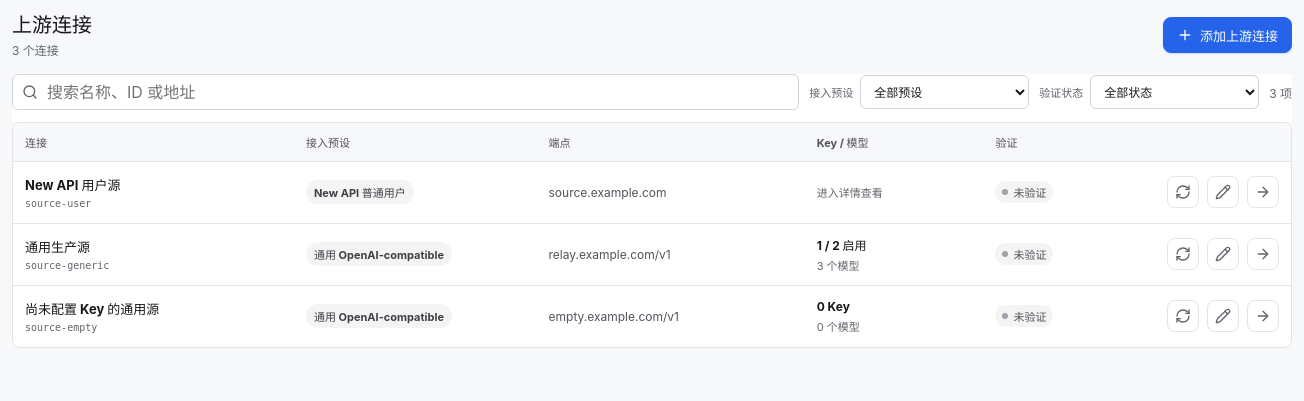
Upstream connections workspace › presents compact searchable rows with honest per-key summaries
Expected: the heading "上游连接" is shown, [12, 12, 92, 39]
Expected: the button "添加上游连接" is shown, [1163, 17, 1292, 53]
Select "通用 OpenAI-compatible" in the dropdown labelled "接入预设" at (945, 92), box [860, 75, 1029, 109]
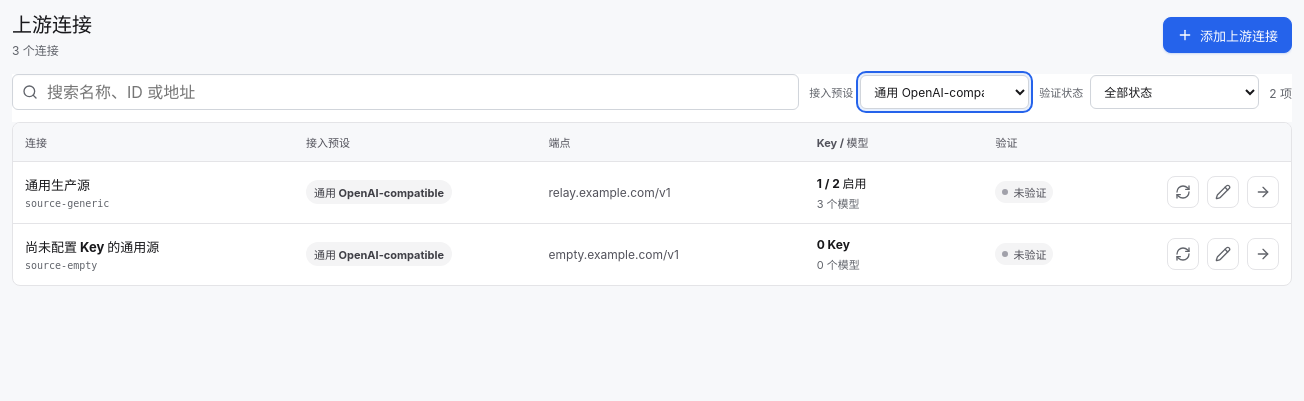
Expected: the link "通用生产源" is shown, [25, 177, 90, 193]
Result: the link "New API 用户源" is gone
Type "没有结果" into the search field named "搜索上游连接" at (406, 92), box [12, 74, 799, 110]
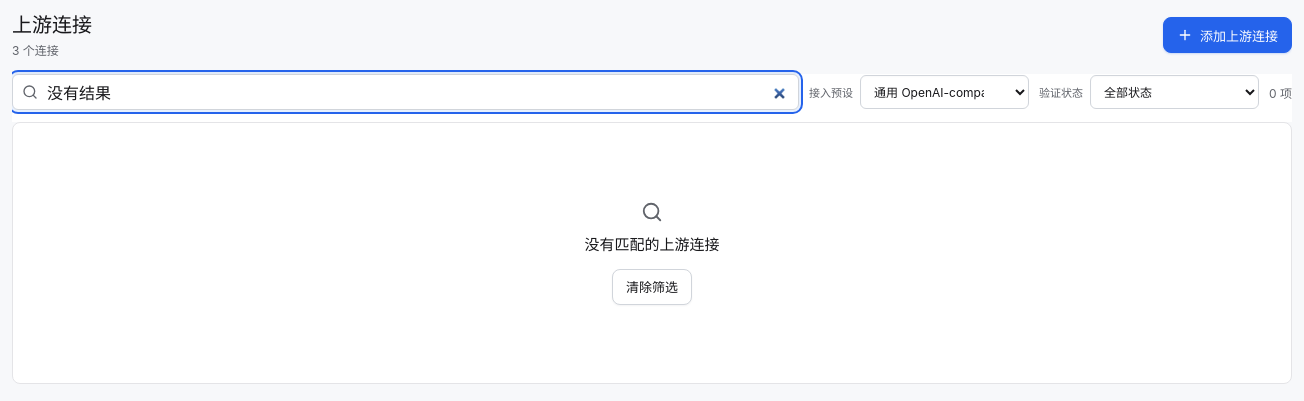
Result: the heading "没有匹配的上游连接" is shown at [584, 235, 720, 255]
